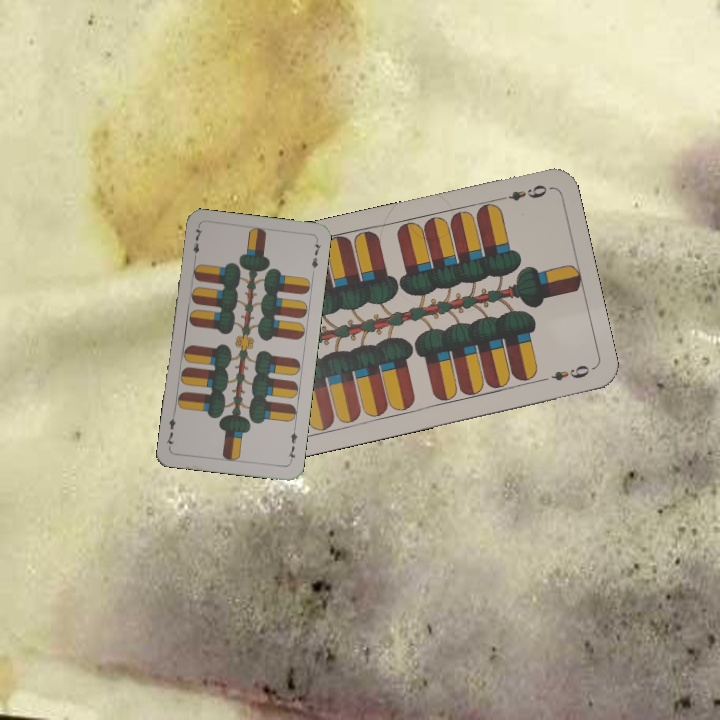E7: (189, 223, 205, 264), (284, 425, 300, 465)
E9: (493, 180, 550, 204)
